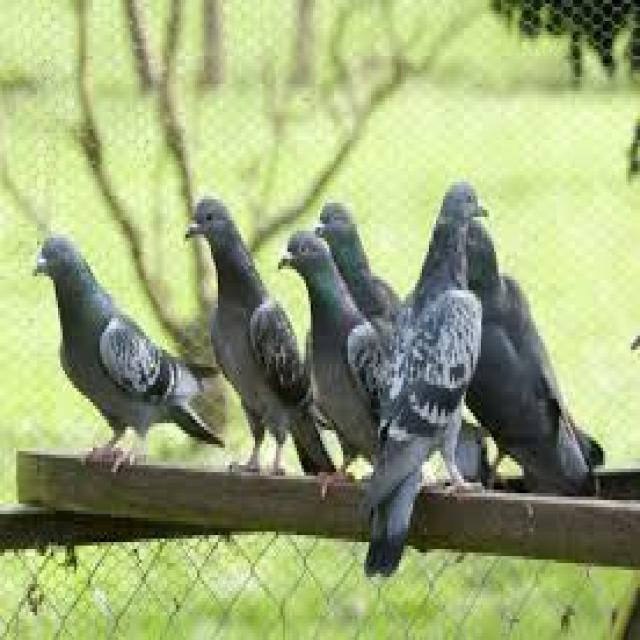pigeon: (25, 214, 214, 494)
